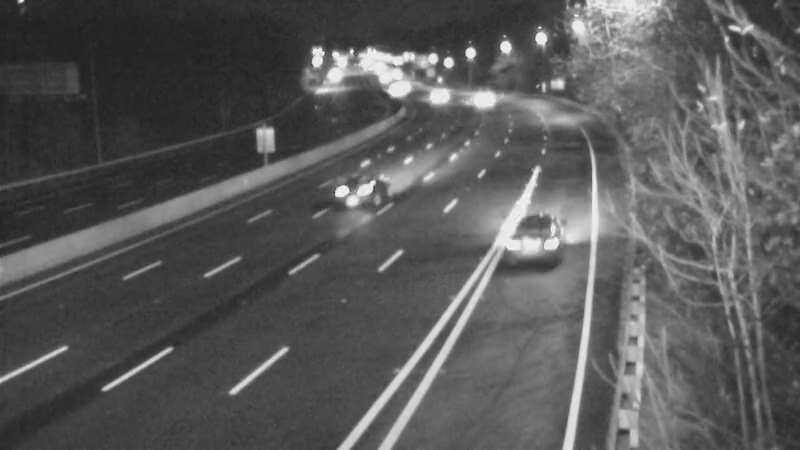vehicle: (322, 154, 402, 234), (490, 203, 570, 283), (410, 72, 460, 122), (456, 73, 506, 123)
